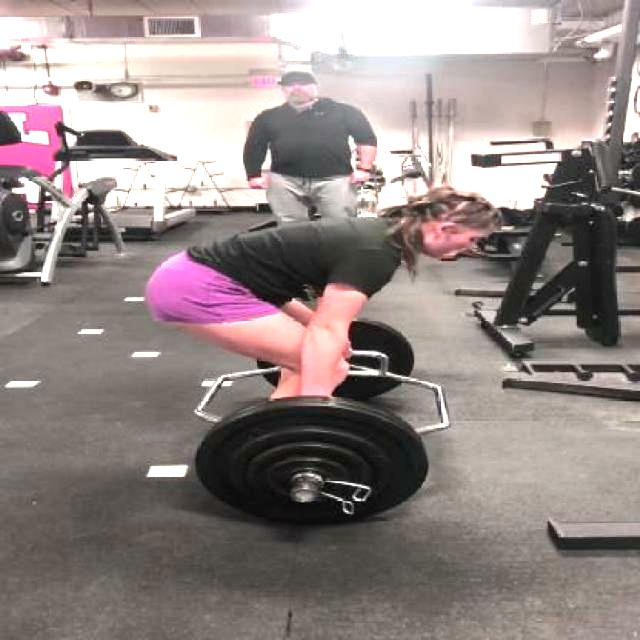barbell: (160, 387, 457, 532)
